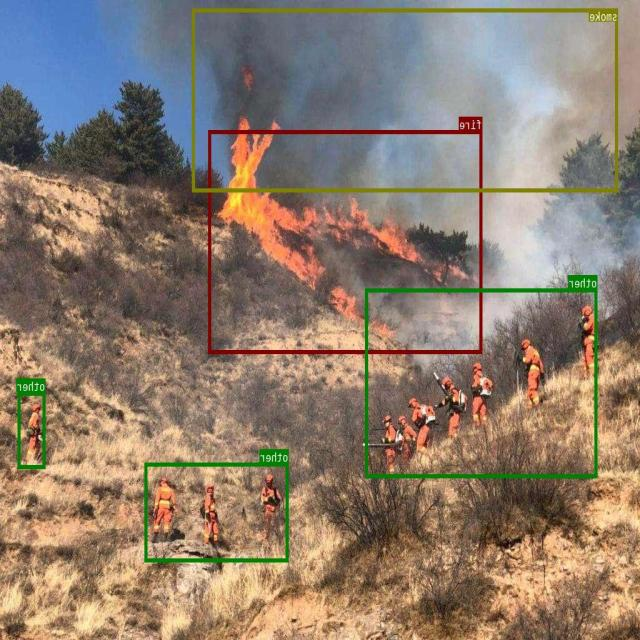fire: (209, 129, 483, 353)
other: (366, 288, 598, 477), (145, 462, 289, 561), (18, 391, 46, 468)
smoke: (193, 8, 619, 191)
